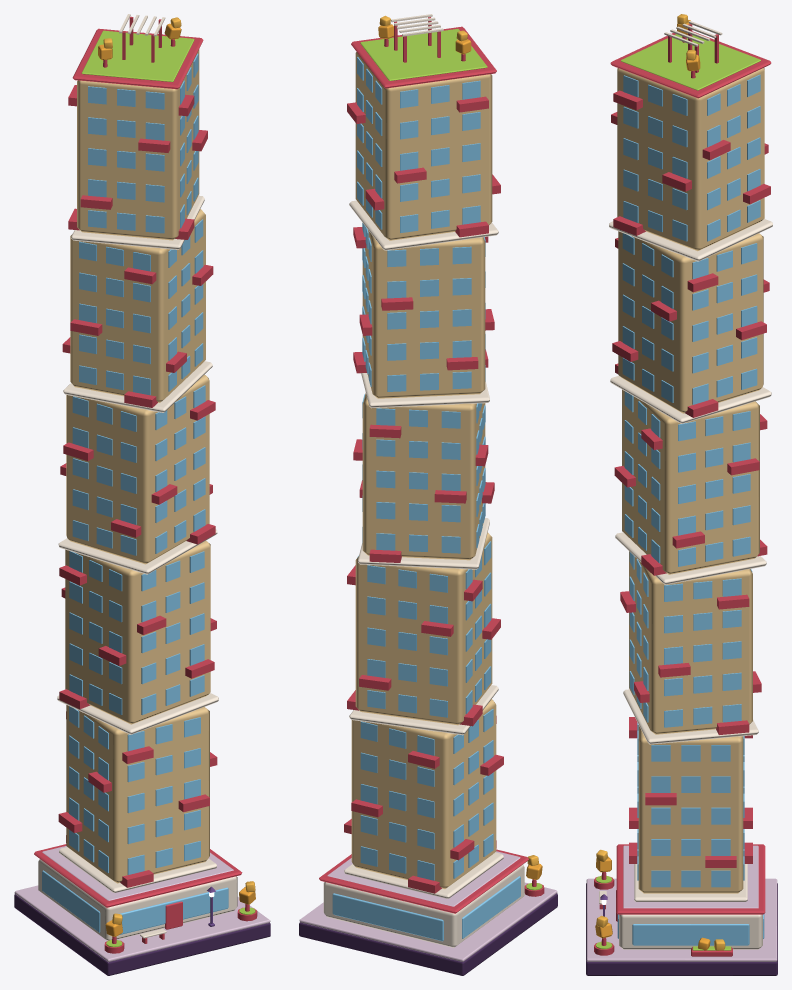
Rendered from modern_building_1_3Level_Demo.glb.
The picture shows the model from 3 angles, left to right: view 1: azimuth 30°, elevation 25°; view 2: azimuth 150°, elevation 25°; view 3: azimuth 270°, elevation 25°; orthographic projection.
Parts seen in each view (by area): view 1: MB3_Sand, MB3_Sky, MB3_Red, MB3_Cream, MB3_Paving, MB3_Grass, MB3_Base, MB3_Leaf; view 2: MB3_Sand, MB3_Sky, MB3_Red, MB3_Cream, MB3_Paving, MB3_Grass, MB3_Base, MB3_Leaf; view 3: MB3_Sand, MB3_Sky, MB3_Red, MB3_Cream, MB3_Paving, MB3_Grass, MB3_Base, MB3_Leaf, MB3_Leaf2.
Part boxes in pixels (box(x1,y1,x2,y2)): MB3_Sand: box(65, 49, 210, 883); MB3_Sky: box(42, 53, 228, 934); MB3_Red: box(34, 16, 257, 953); MB3_Cream: box(38, 14, 237, 940); MB3_Paving: box(14, 846, 270, 962); MB3_Grass: box(81, 30, 255, 947); MB3_Base: box(14, 894, 270, 975); MB3_Leaf: box(98, 23, 255, 936); MB3_Sand: box(351, 52, 496, 889); MB3_Sky: box(332, 57, 520, 941); MB3_Red: box(319, 17, 544, 913); MB3_Cream: box(323, 14, 524, 947); MB3_Paving: box(299, 851, 557, 961); MB3_Grass: box(360, 29, 542, 890); MB3_Base: box(299, 893, 557, 975); MB3_Leaf: box(378, 24, 542, 879); MB3_Sand: box(617, 68, 764, 893); MB3_Sky: box(617, 74, 764, 945); MB3_Red: box(594, 24, 771, 956); MB3_Cream: box(599, 21, 772, 949); MB3_Paving: box(586, 845, 777, 961); MB3_Grass: box(595, 34, 760, 950); MB3_Base: box(586, 883, 777, 975); MB3_Leaf: box(595, 20, 710, 950); MB3_Leaf2: box(596, 14, 725, 950).
Bounding box in the file's own units: 3.2 × 16.67 × 3.2.
